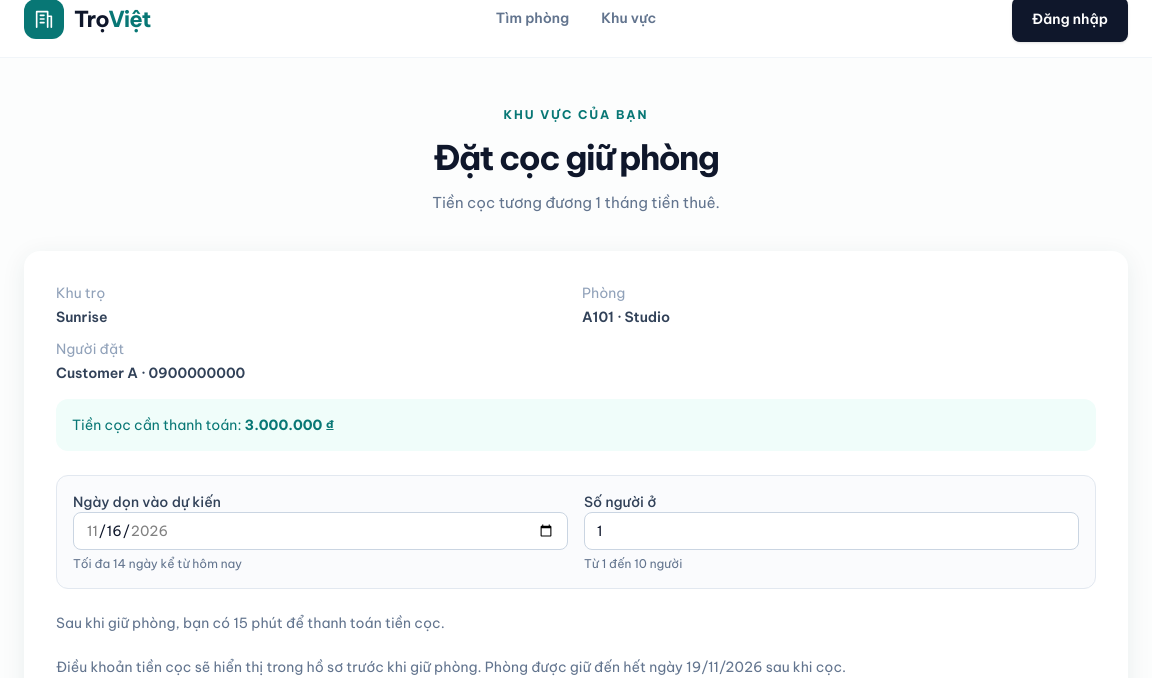
DepositPage › shows the configured deposit terms and validates the date before preparing identity
Expected: the text "A101 · Studio" is shown, [582, 308, 670, 326]
Clear the date field labelled "Ngày dọn vào": {"x": 320, "y": 531} [73, 512, 568, 550]
(page scrolled)
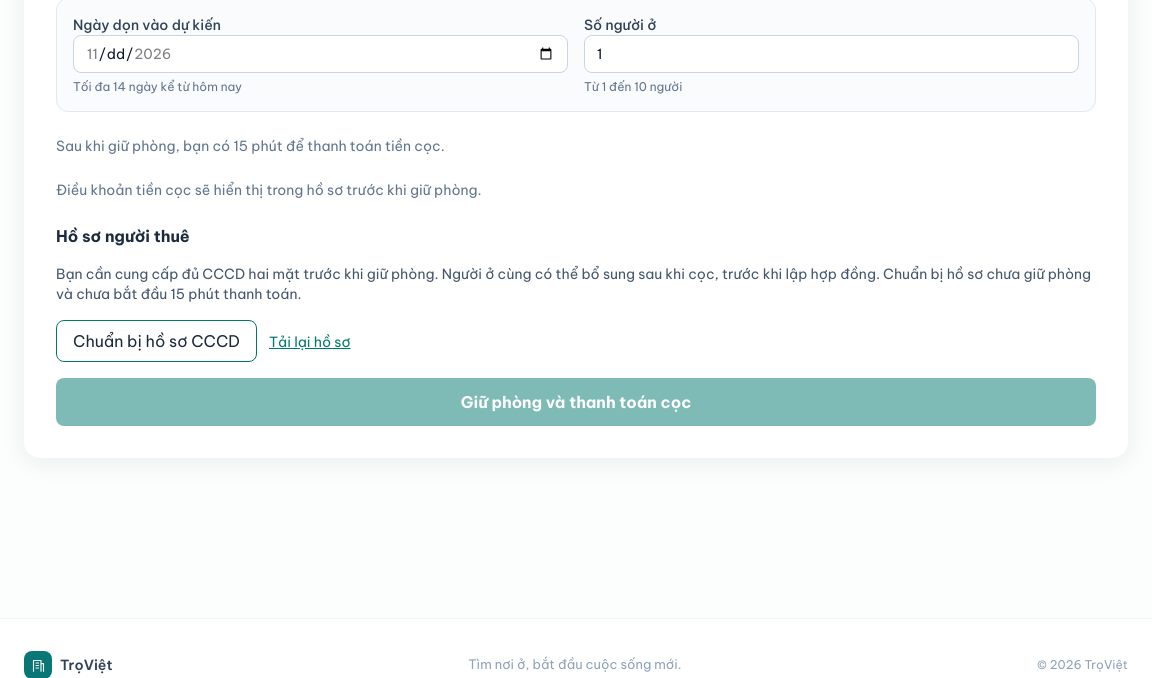
Click the button "Chuẩn bị hồ sơ CCCD": {"x": 156, "y": 341} [56, 320, 257, 362]
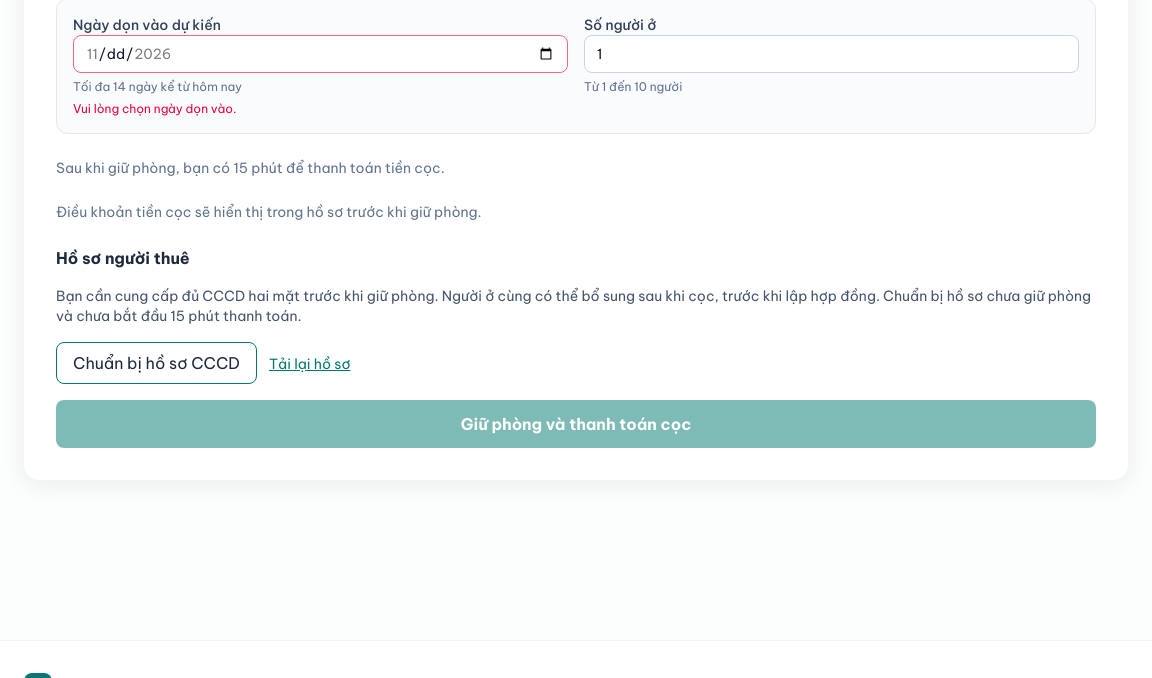
Now the text "Vui lòng chọn ngày dọn vào." is shown, box [73, 101, 236, 116]
In the date field labelled "Ngày dọn vào": {"x": 320, "y": 54} [73, 35, 568, 73], type "2026-11-16"
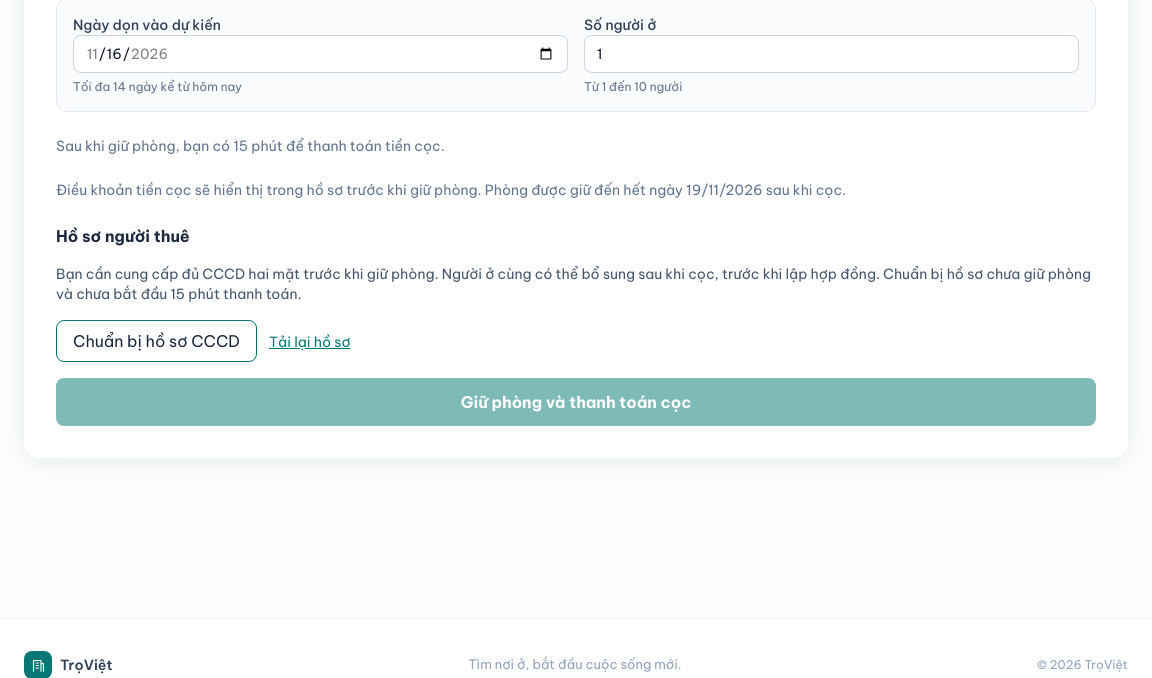
Click the button "Chuẩn bị hồ sơ CCCD": {"x": 156, "y": 341} [56, 320, 257, 362]
(page scrolled)
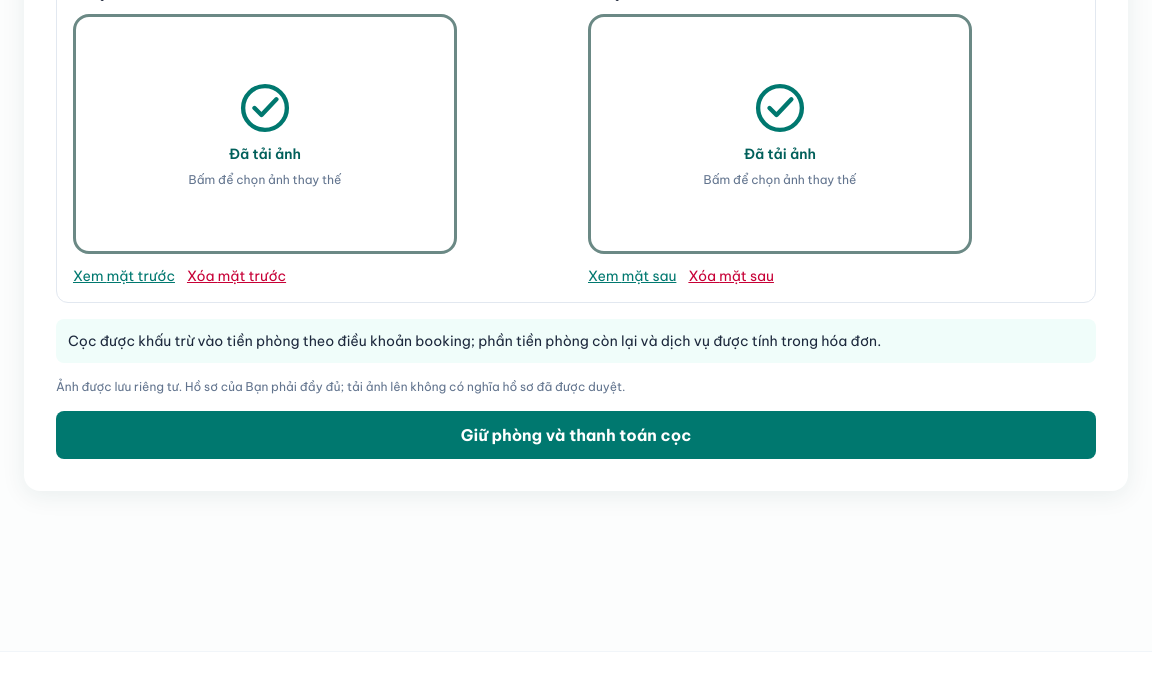
Now the text "Cọc được khấu trừ vào tiền phòng" is shown, box [68, 332, 881, 350]
